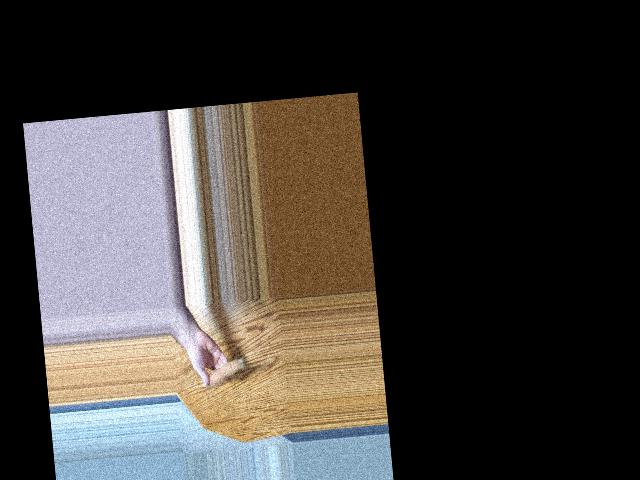sweet_potato: (202, 355, 246, 387)
